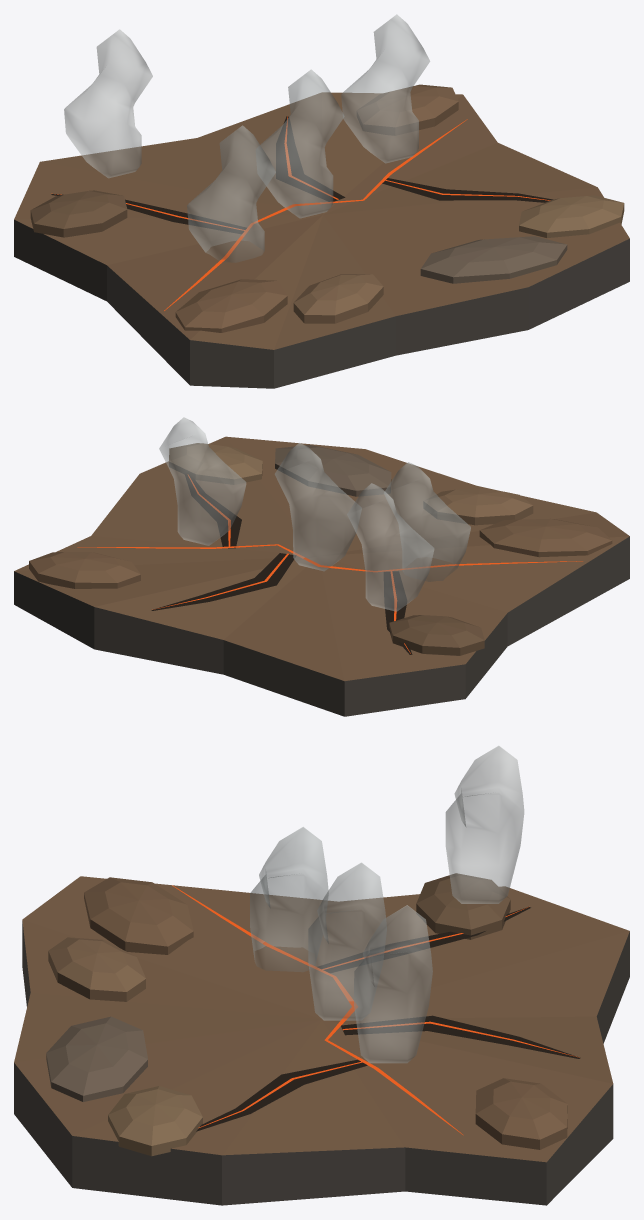
Rendered from fenda_fumegante.glb.
3 renders of one model, top to bottom at view 1: azimuth 30°, elevation 25°; view 2: azimuth 150°, elevation 25°; view 3: azimuth 270°, elevation 25°, orthographic. The views are drawn at different scales.
Visible parts, largest first — view 1: Caverna | Solo | terra queimada, Vapor contínuo 01, Vapor contínuo 03, Vapor contínuo 02, Vapor contínuo 00, Caverna | Rachadura | sombra profunda, Caverna | Rachadura | brasa discreta; view 2: Caverna | Solo | terra queimada, Vapor contínuo 02, Vapor contínuo 03, Vapor contínuo 01, Vapor contínuo 00, Caverna | Rachadura | sombra profunda, Caverna | Rachadura | brasa discreta; view 3: Caverna | Solo | terra queimada, Vapor contínuo 03, Vapor contínuo 02, Vapor contínuo 01, Vapor contínuo 00, Caverna | Rachadura | sombra profunda, Caverna | Rachadura | brasa discreta.
Boxes of the visible parts, x1=… form: Caverna | Solo | terra queimada: x1=14, y1=84, x2=629, y2=388; Vapor contínuo 01: x1=256, y1=69, x2=344, y2=218; Vapor contínuo 03: x1=64, y1=29, x2=152, y2=178; Vapor contínuo 02: x1=341, y1=14, x2=429, y2=163; Vapor contínuo 00: x1=187, y1=125, x2=275, y2=262; Caverna | Rachadura | sombra profunda: x1=51, y1=116, x2=552, y2=233; Caverna | Rachadura | brasa discreta: x1=51, y1=116, x2=550, y2=310; Caverna | Solo | terra queimada: x1=14, y1=436, x2=629, y2=716; Vapor contínuo 02: x1=159, y1=417, x2=246, y2=545; Vapor contínuo 03: x1=347, y1=483, x2=434, y2=611; Vapor contínuo 01: x1=275, y1=443, x2=361, y2=571; Vapor contínuo 00: x1=384, y1=462, x2=470, y2=581; Caverna | Rachadura | sombra profunda: x1=151, y1=474, x2=412, y2=654; Caverna | Rachadura | brasa discreta: x1=77, y1=475, x2=582, y2=653; Caverna | Solo | terra queimada: x1=14, y1=873, x2=629, y2=1205; Vapor contínuo 03: x1=445, y1=745, x2=524, y2=903; Vapor contínuo 02: x1=354, y1=905, x2=432, y2=1063; Vapor contínuo 01: x1=308, y1=862, x2=386, y2=1020; Vapor contínuo 00: x1=250, y1=827, x2=328, y2=971; Caverna | Rachadura | sombra profunda: x1=196, y1=907, x2=580, y2=1131; Caverna | Rachadura | brasa discreta: x1=172, y1=885, x2=579, y2=1135.
Size of the model in its own units: 0.7803 by 0.3267 by 0.74.
